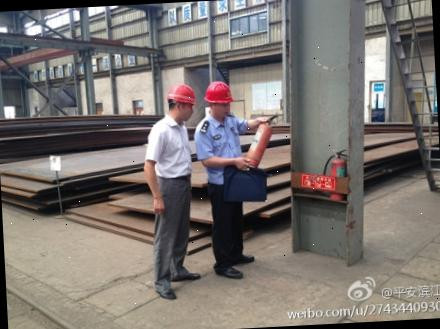helmet: (203, 80, 235, 104), (166, 82, 196, 106)
no_wear: (194, 108, 251, 184), (143, 111, 193, 179)
